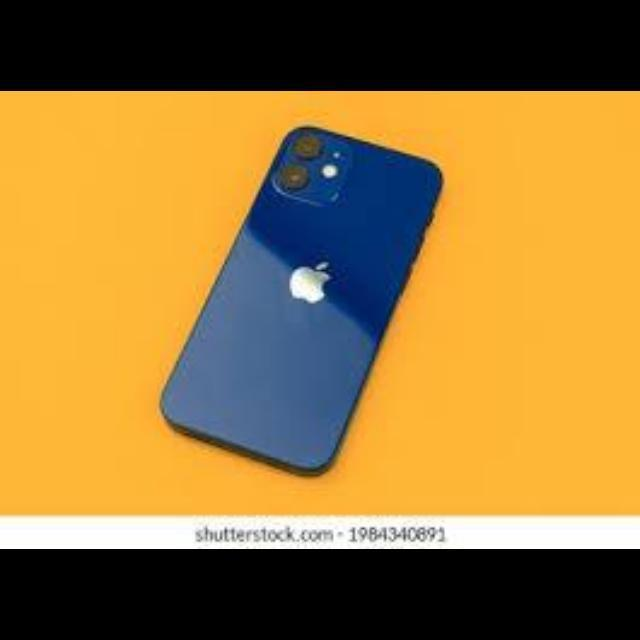PhoneUse: (161, 126, 443, 476)
